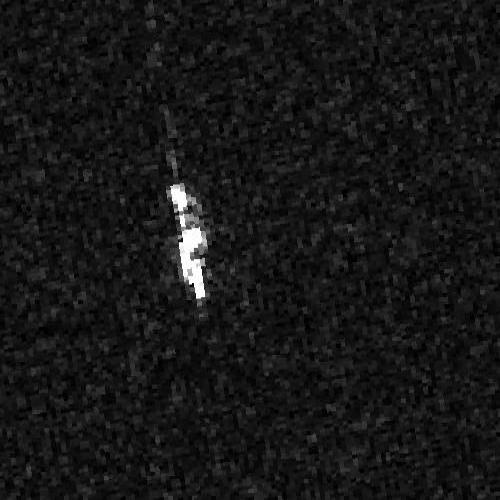ship: (167, 180, 207, 303)
